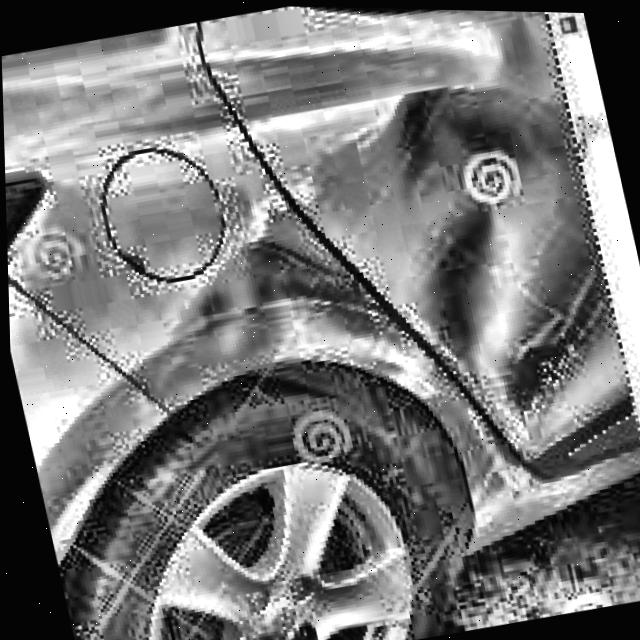door_dent: (345, 66, 622, 451), (204, 197, 383, 376)
